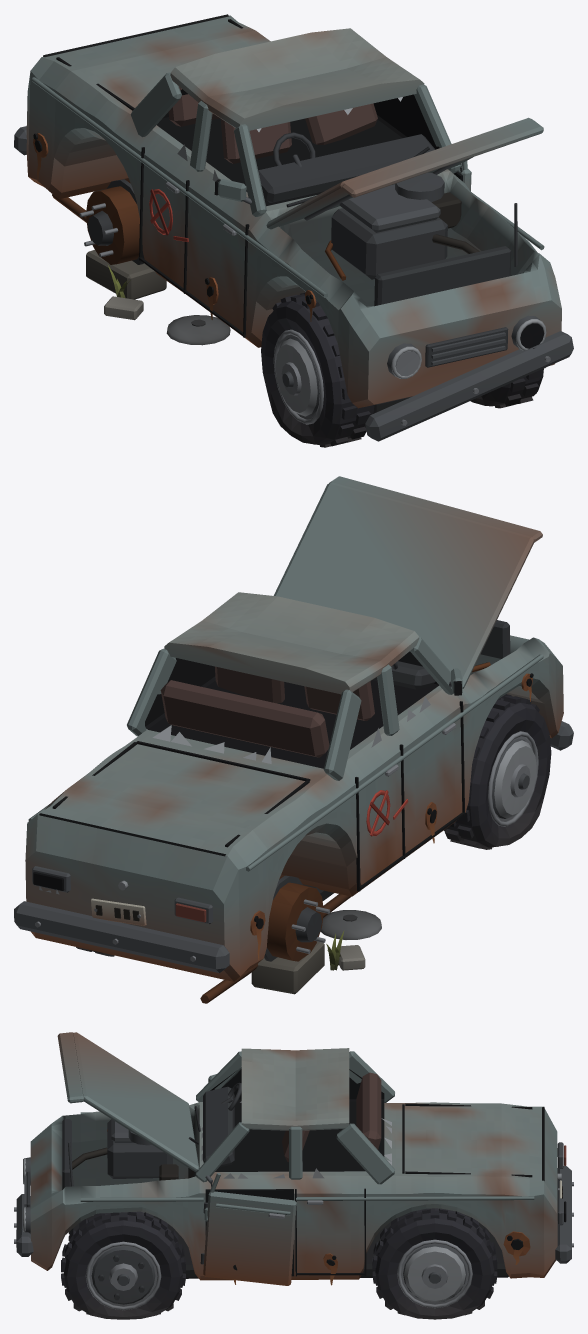
The model's file is wrecked_car.glb.
3 renders of one model, top to bottom at view 1: azimuth 30°, elevation 25°; view 2: azimuth 150°, elevation 25°; view 3: azimuth 270°, elevation 25°, orthographic. The views are drawn at different scales.
Parts seen in each view (by area): view 1: wrecked_car; view 2: wrecked_car; view 3: wrecked_car.
Part boxes in pixels (x1=…): wrecked_car: x1=14, y1=14, x2=573, y2=447; wrecked_car: x1=14, y1=476, x2=573, y2=1003; wrecked_car: x1=14, y1=1032, x2=573, y2=1319.
Bounding box in the file's own units: 1.17 × 1.2 × 2.75.
